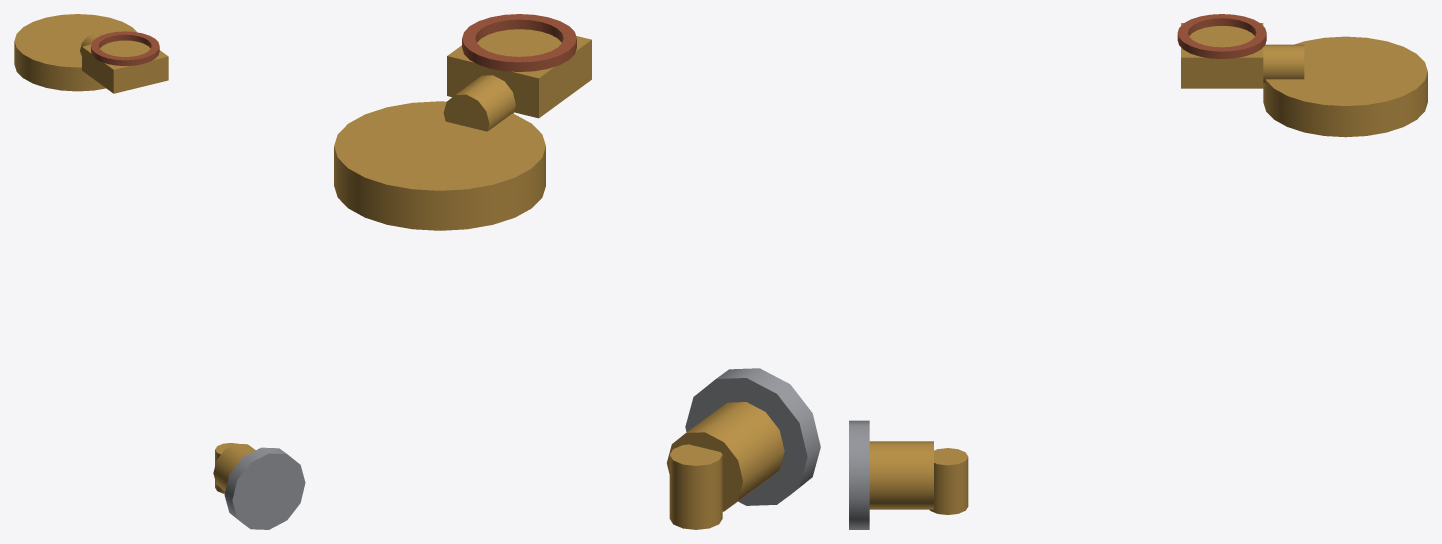
File: jcharge_valve.obj
3 views of the same model, side by side, from view 1: azimuth 30°, elevation 25°; view 2: azimuth 150°, elevation 25°; view 3: azimuth 270°, elevation 25° (orthographic). The views are drawn at different scales.
Visible parts, largest first — view 1: jcharge_valve; view 2: jcharge_valve; view 3: jcharge_valve.
Boxes of the visible parts, x1,y1,x2,y2 form: jcharge_valve: [14, 14, 305, 529]; jcharge_valve: [334, 14, 820, 529]; jcharge_valve: [849, 14, 1427, 529].
Size of the model in its own units: 0.24 by 0.792 by 0.844.
